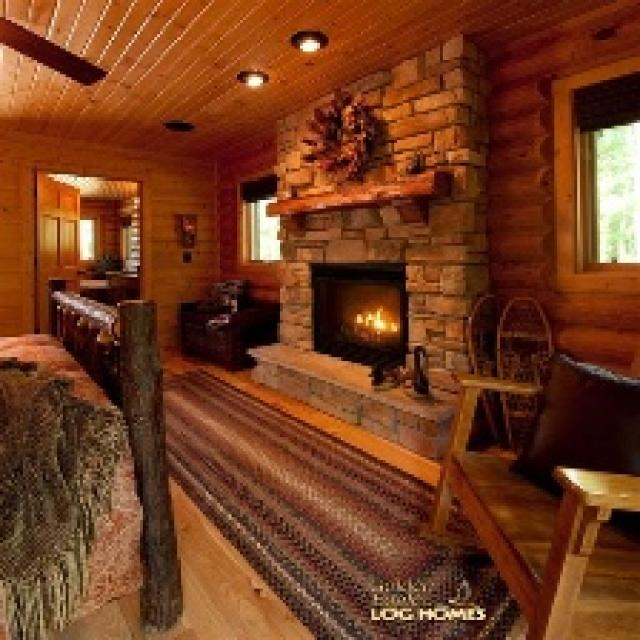Bed: (0, 286, 183, 637)
